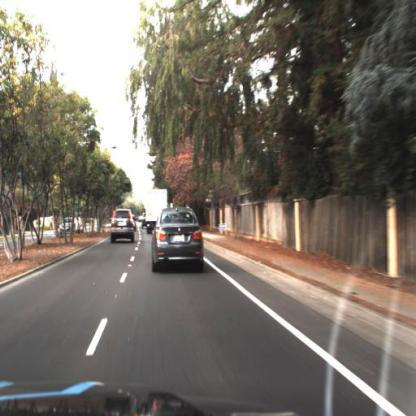car: (150, 204, 209, 277), (143, 183, 170, 236), (110, 207, 137, 248), (56, 214, 78, 241)
truck: (143, 186, 172, 237)
